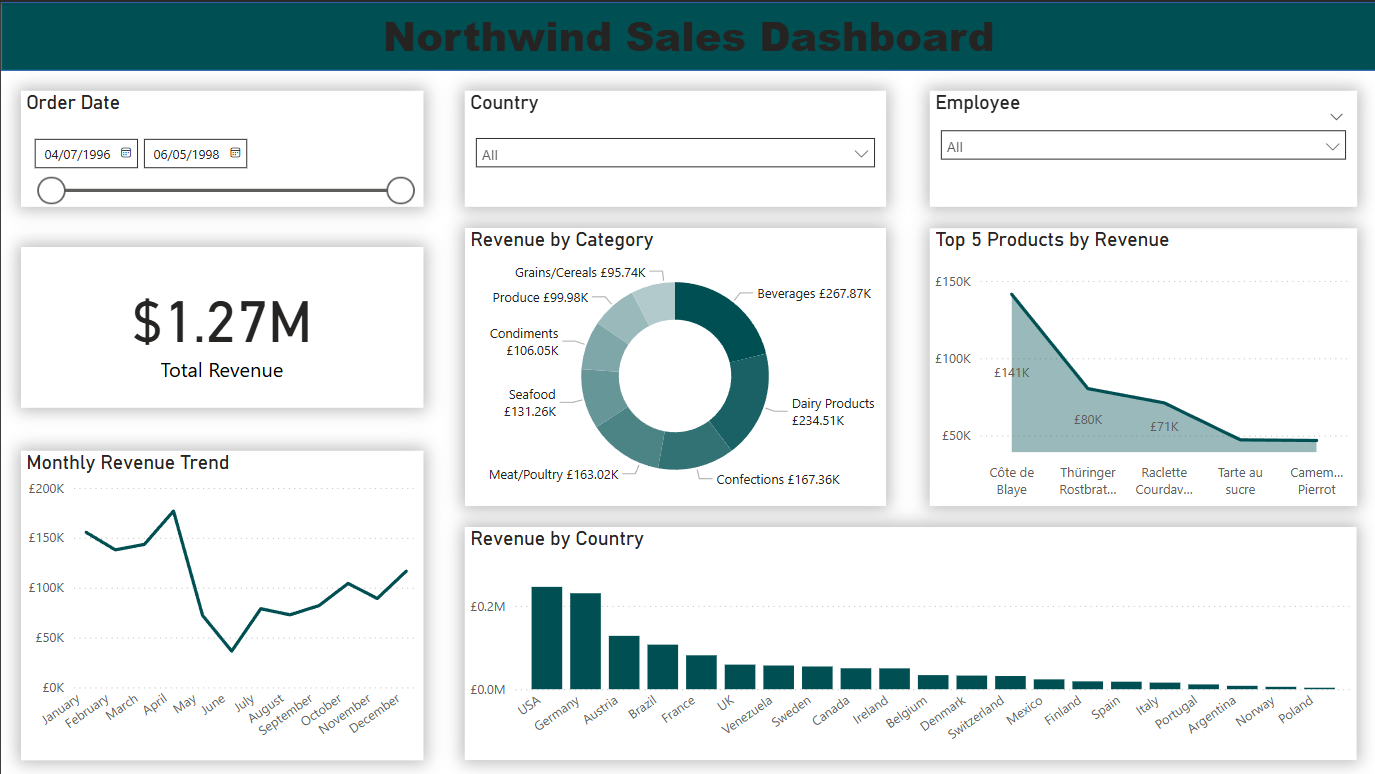

Layout of this report page (visuals, bound fields, positions):
{"tool":"powerbi","page":{"name":"Page 1","canvas":[1280,720],"ordinal":0},"visuals":[{"type":"card","title":"Total Revenue","fields":{"Values":["Order Details.TotalRevenue"]},"box":[18.4,227.4,374.5,149.3],"z":0},{"type":"stackedAreaChart","title":"Top 5 Products by Revenue","fields":{"Category":["Products.ProductName"],"Y":["Order Details.TotalRevenue"]},"box":[863.8,210.2,397.4,258.5],"z":1000},{"type":"donutChart","title":"Revenue by Category","fields":{"Category":["Categories.CategoryName"],"Y":["Order Details.TotalRevenue"]},"box":[431.9,210.2,391.7,258.5],"z":2000},{"type":"columnChart","title":"Revenue by Country","fields":{"Category":["Customers.Country"],"Y":["Order Details.TotalRevenue"]},"box":[431.9,488.2,829.4,217.1],"z":3000},{"type":"lineChart","title":"Monthly Revenue Trend","fields":{"Category":["Orders.OrderDate.Variation.Date Hierarchy.Month"],"Y":["Order Details.TotalRevenue"]},"box":[18.4,417,374.5,288.3],"z":4000},{"type":"slicer","title":"Order Date","fields":{"Values":["Orders.OrderDate"]},"box":[18.4,82.7,374.5,108],"z":5000},{"type":"slicer","title":"Country","fields":{"Values":["Customers.Country"]},"box":[431.9,82.7,391.7,108],"z":6000},{"type":"slicer","title":"Employee","fields":{"Values":["Employees.LastName"]},"box":[863.8,82.7,397.4,108],"z":7000},{"type":"shape","box":[0,0,1279.6,64.3],"z":8000},{"type":"textbox","box":[127.5,0,1023.5,64.3],"z":9000}]}

Visuals, with their boxes in screenshot pixels (x1, y1, x2, y2), scaled from the page's 1280x720 canvas onto the 1375x774 screenshot:
"Total Revenue" card: (x1=20, y1=244, x2=422, y2=405)
"Top 5 Products by Revenue" stackedAreaChart: (x1=928, y1=226, x2=1355, y2=504)
"Revenue by Category" donutChart: (x1=464, y1=226, x2=885, y2=504)
"Revenue by Country" columnChart: (x1=464, y1=525, x2=1355, y2=758)
"Monthly Revenue Trend" lineChart: (x1=20, y1=448, x2=422, y2=758)
"Order Date" slicer: (x1=20, y1=89, x2=422, y2=205)
"Country" slicer: (x1=464, y1=89, x2=885, y2=205)
"Employee" slicer: (x1=928, y1=89, x2=1355, y2=205)
shape: (x1=0, y1=0, x2=1374, y2=69)
textbox: (x1=137, y1=0, x2=1236, y2=69)
